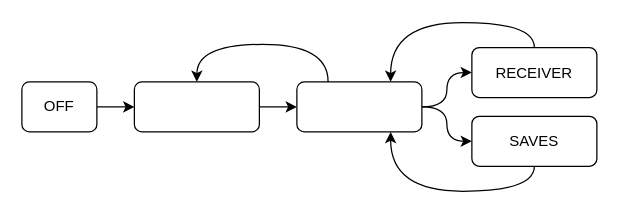
This 619x213 diagram has some shape labels left out. Here are the shapes that lost their labels. From the top down, the centre of each, then its label:
point 196,106: DEFAULT
point 359,106: MENU
